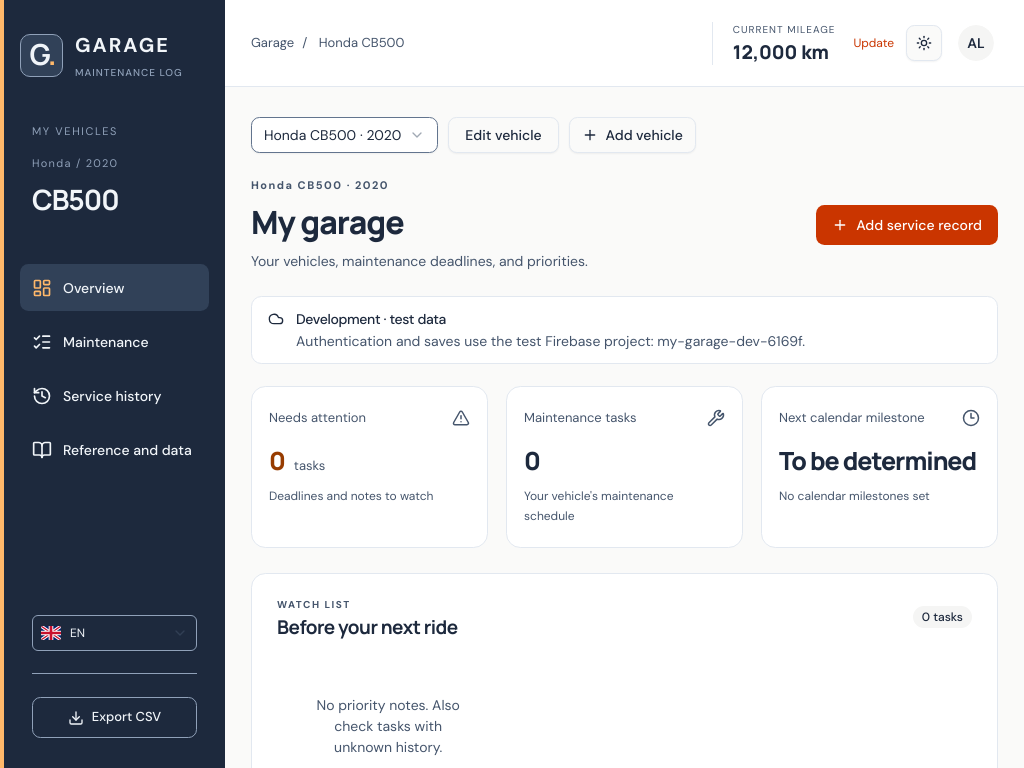
Scenario: database-backed garage workflows › keeps unsaved fields visible when the database rejects a write
This screenshot has width=1024, height=768.
Click the button "Maintenance".
click(114, 342)  # box [20,318,209,365]
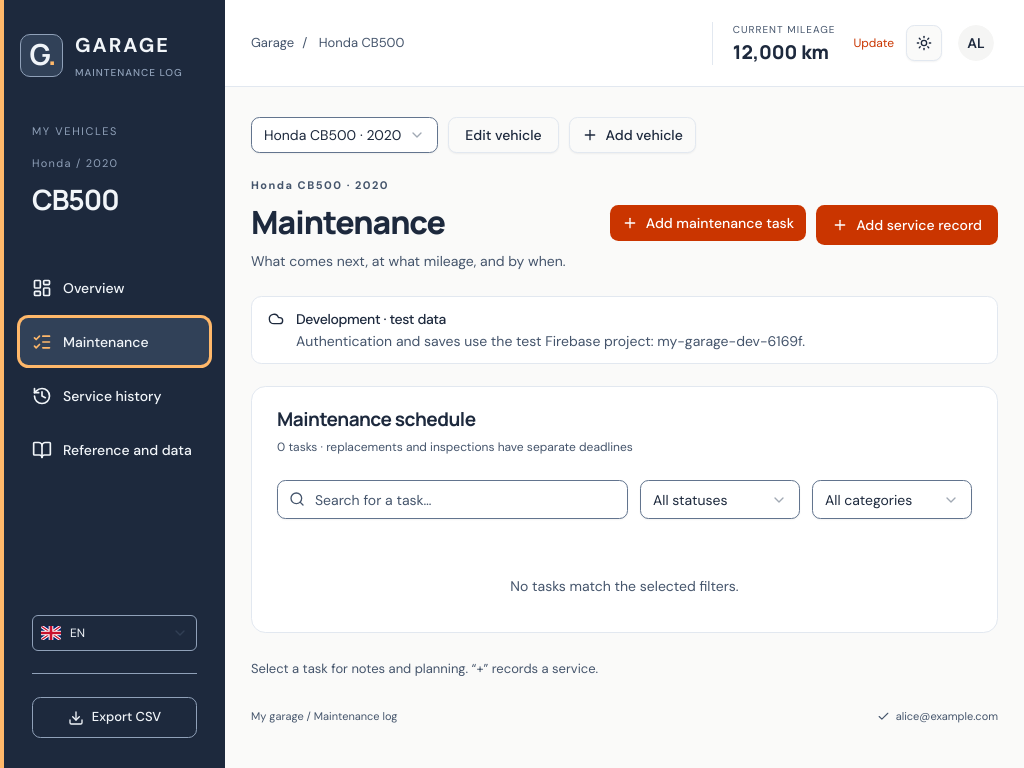
Click the button "Add maintenance task".
click(708, 222)  # box [610,204,806,240]
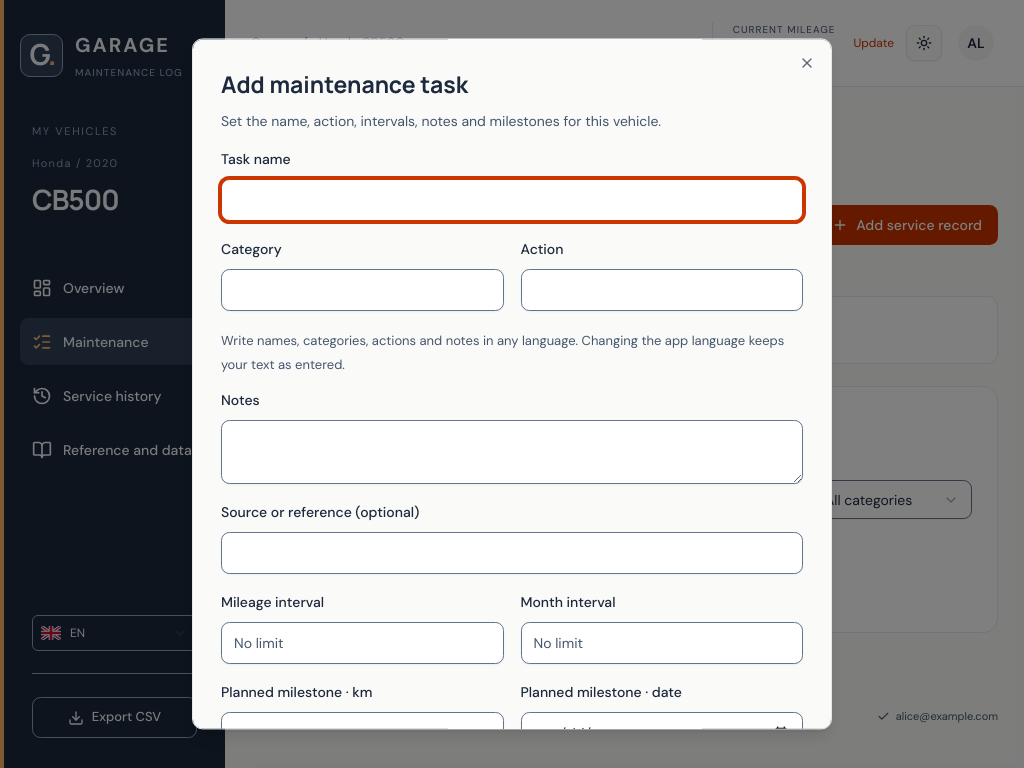
Type "Saved locally in this form" into the field labelled "Task name".
click(512, 201); type("Saved locally in this form")  # box [221,180,803,222]
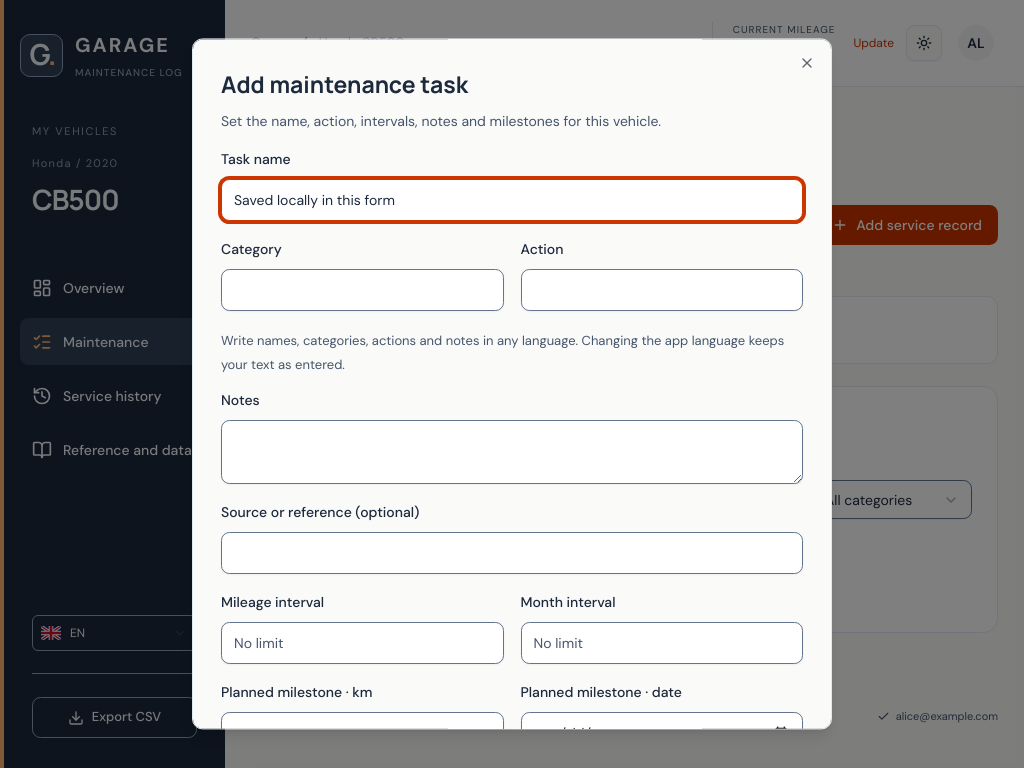
Type "Check" into the field labelled "Action".
click(662, 291); type("Check")  # box [520,270,803,312]
(page scrolled)
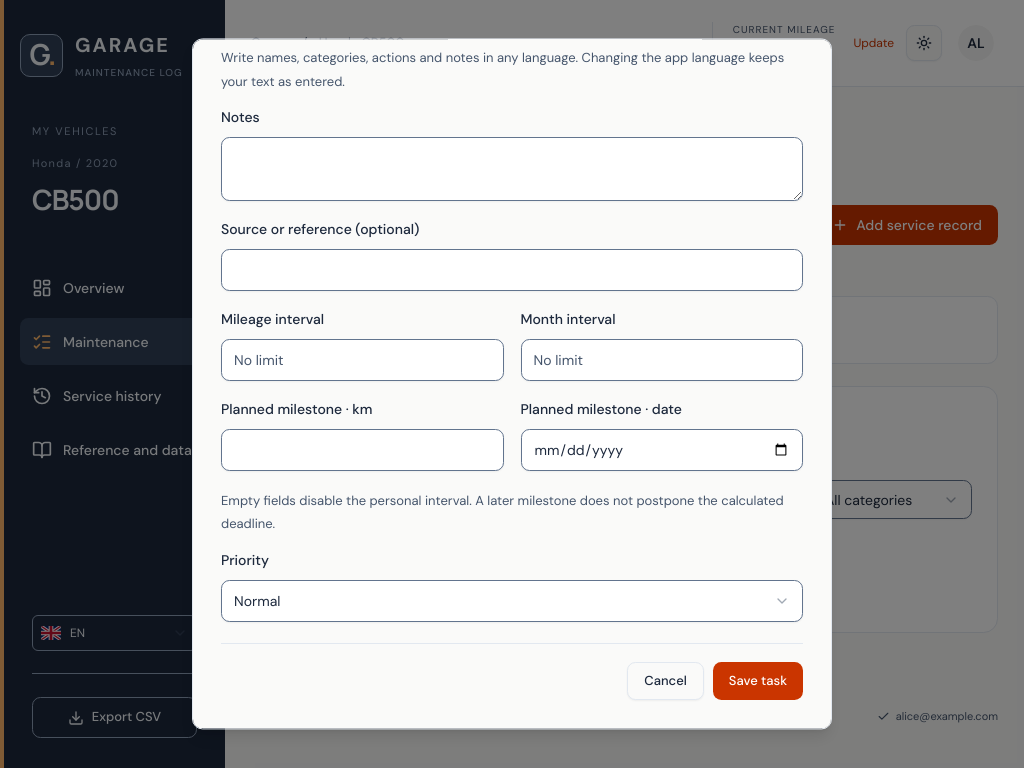
Click the button "Save task".
click(758, 681)  # box [713,662,803,700]
(page scrolled)
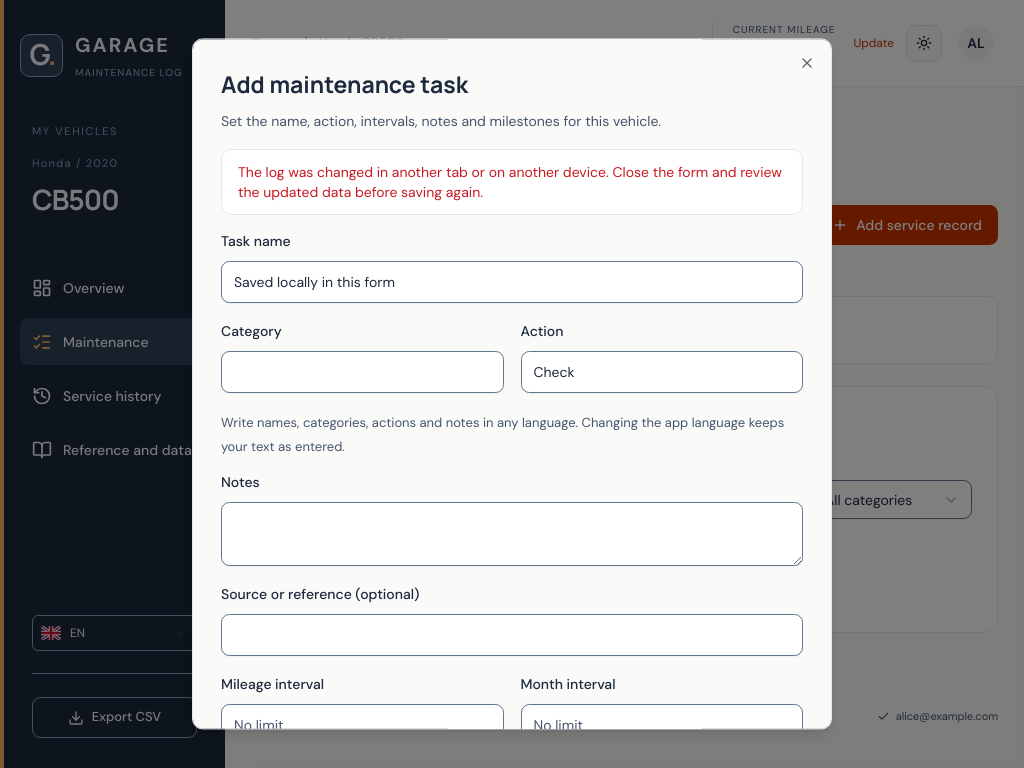
Now the text "changed in another tab" is shown, box [238,164,782,202]
